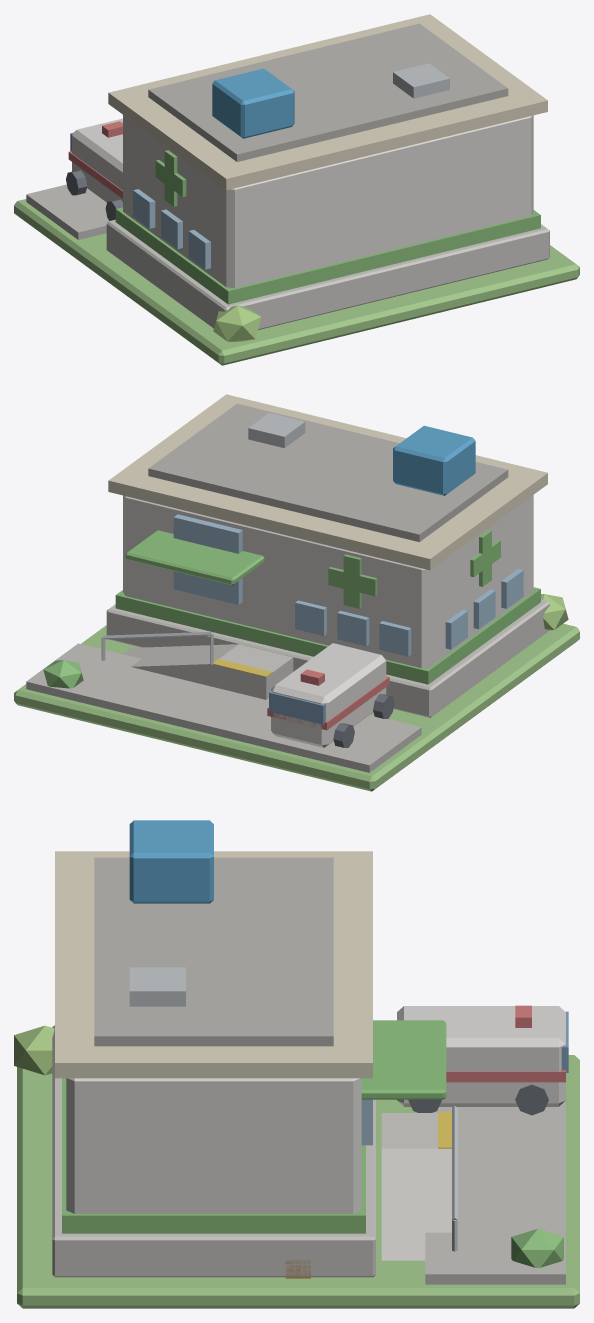
File: publicos__posto_saude.glb
The picture shows the model from 3 angles, top to bottom: view 1: azimuth 30°, elevation 25°; view 2: azimuth 150°, elevation 25°; view 3: azimuth 270°, elevation 25°; orthographic projection. The views are drawn at different scales.
Parts seen in each view (by area): view 1: publicos__posto_saude; view 2: publicos__posto_saude; view 3: publicos__posto_saude.
Boxes of the visible parts, left/top/right/bottom form: publicos__posto_saude: left=14, top=14, right=579, bottom=365; publicos__posto_saude: left=14, top=394, right=579, bottom=791; publicos__posto_saude: left=14, top=820, right=579, bottom=1308.
Bounding box in the file's own units: 2 × 1.16 × 2.01.
